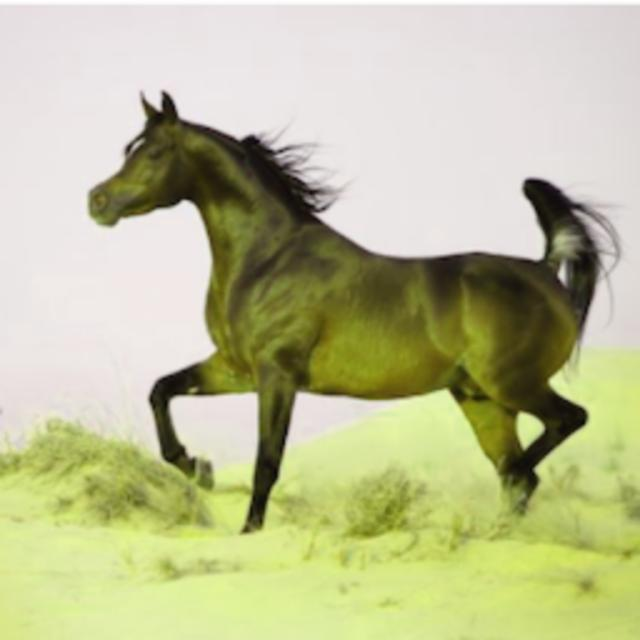Horse: (82, 85, 628, 538)
